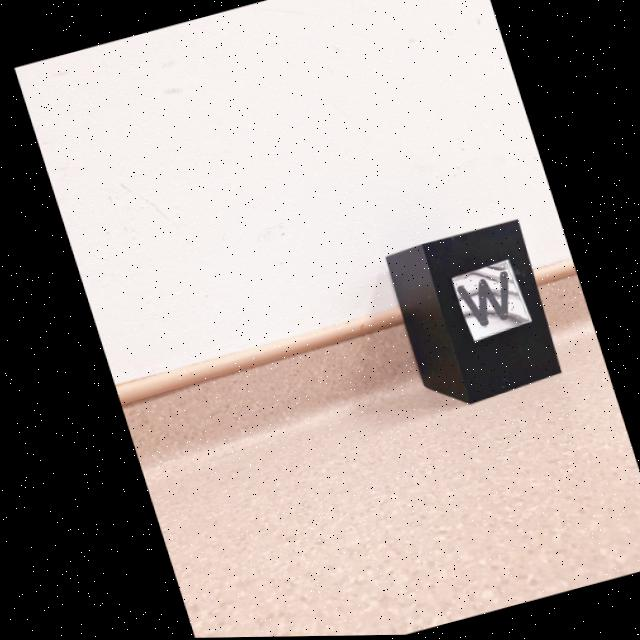W: (452, 273, 504, 328)
